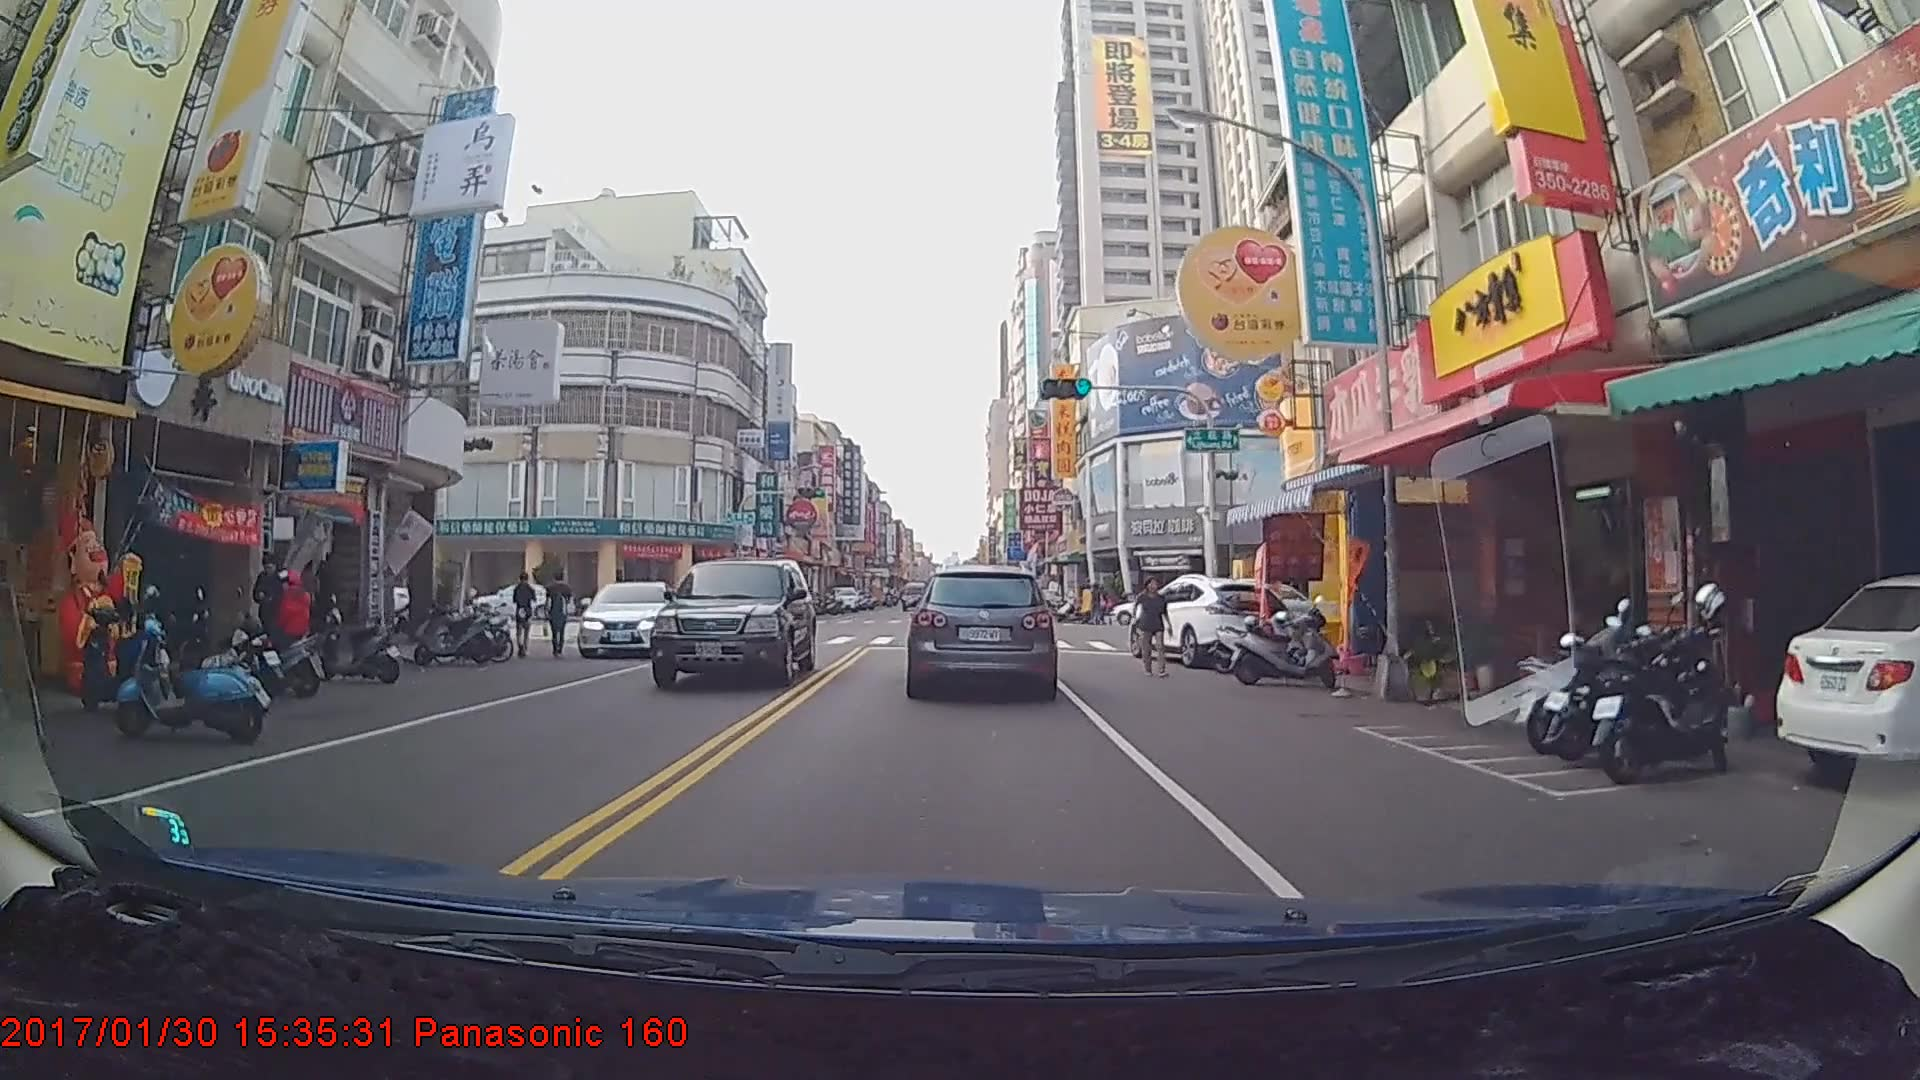pedestrian: (247, 547, 299, 672), (1133, 579, 1171, 674), (541, 568, 577, 656), (513, 573, 540, 660)
rider: (220, 568, 330, 701)
vehicle: (648, 553, 817, 689), (905, 565, 1056, 698), (1127, 573, 1289, 669), (575, 580, 681, 659), (901, 577, 929, 607)
